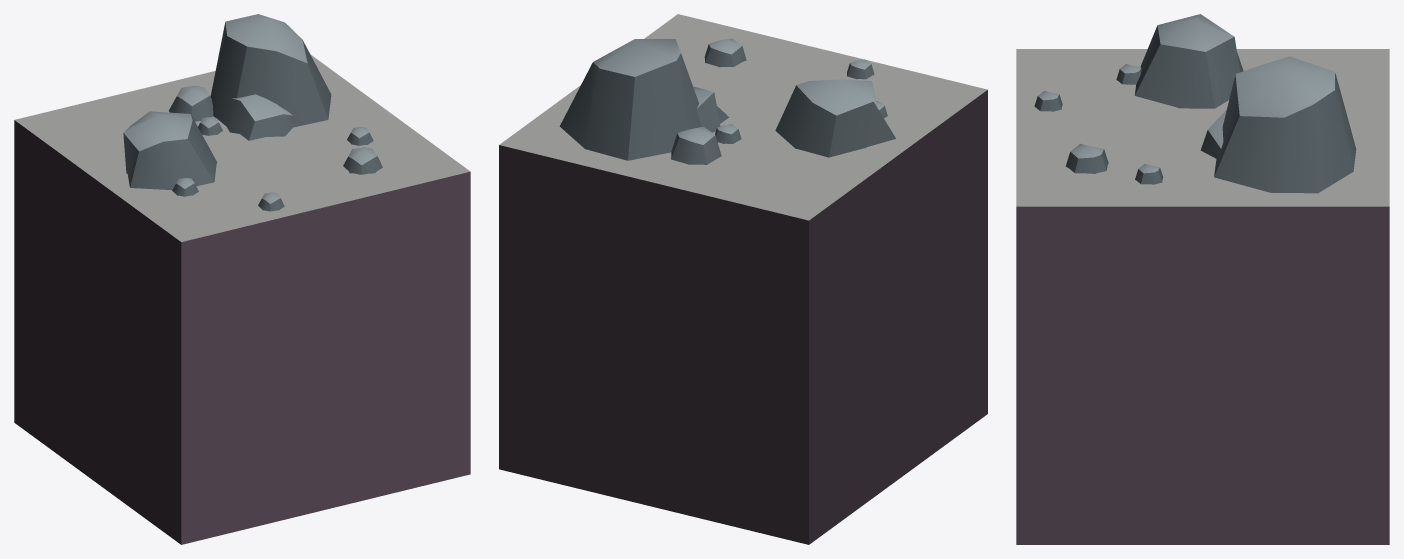
File: tile_obstacle_rock02.FBX
The picture shows the model from 3 angles, left to right: view 1: azimuth 30°, elevation 25°; view 2: azimuth 150°, elevation 25°; view 3: azimuth 270°, elevation 25°; orthographic projection. The views are drawn at different scales.
Visible parts, largest first — view 1: tile_obstacle_rock02; view 2: tile_obstacle_rock02; view 3: tile_obstacle_rock02.
Boxes of the visible parts, box(x1,y1,x2,y2) form: tile_obstacle_rock02: box(14, 14, 470, 544); tile_obstacle_rock02: box(499, 14, 987, 544); tile_obstacle_rock02: box(1016, 14, 1389, 544).
Bounding box in the file's own units: 39.37 × 50.32 × 39.37.
